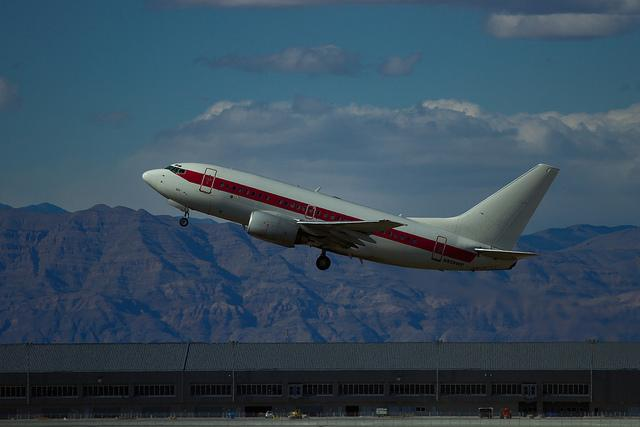airplane: (138, 156, 560, 290)
